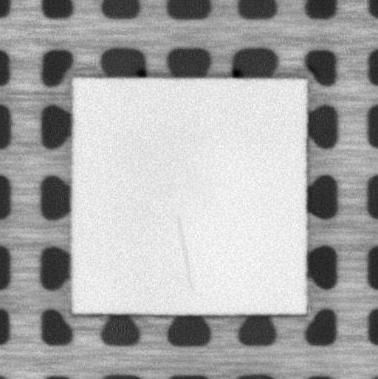DIE_CRACK: (172, 216, 196, 294)
